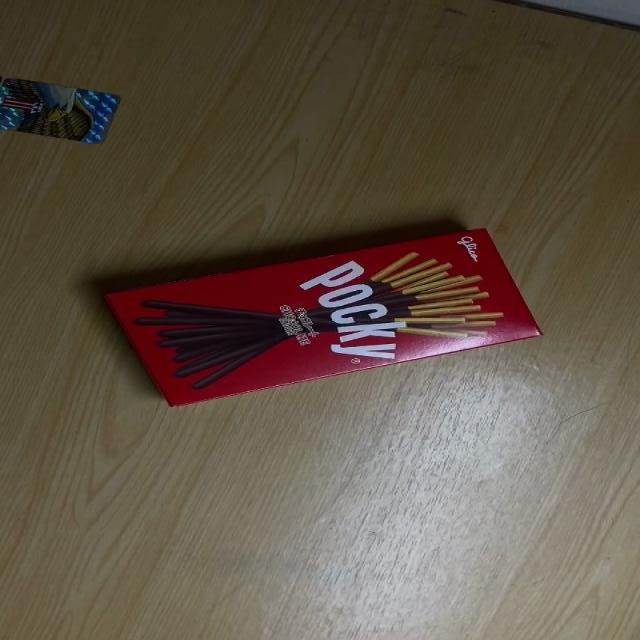Pocky: (95, 227, 545, 407)
